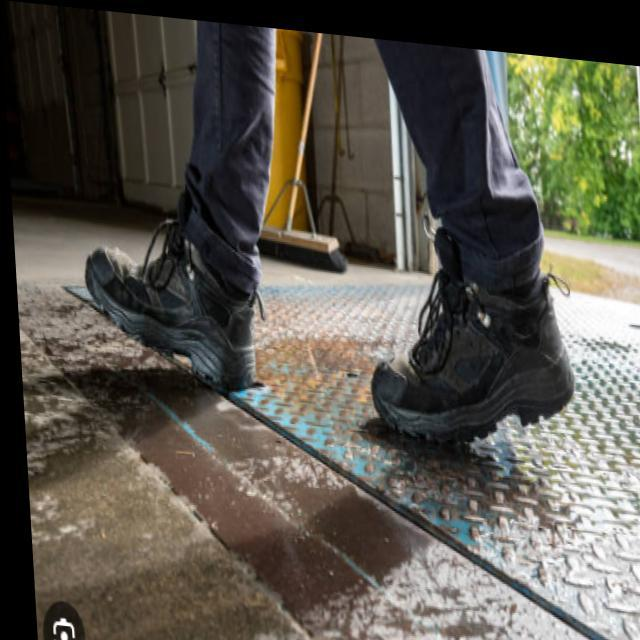shoes: (74, 160, 583, 467)
